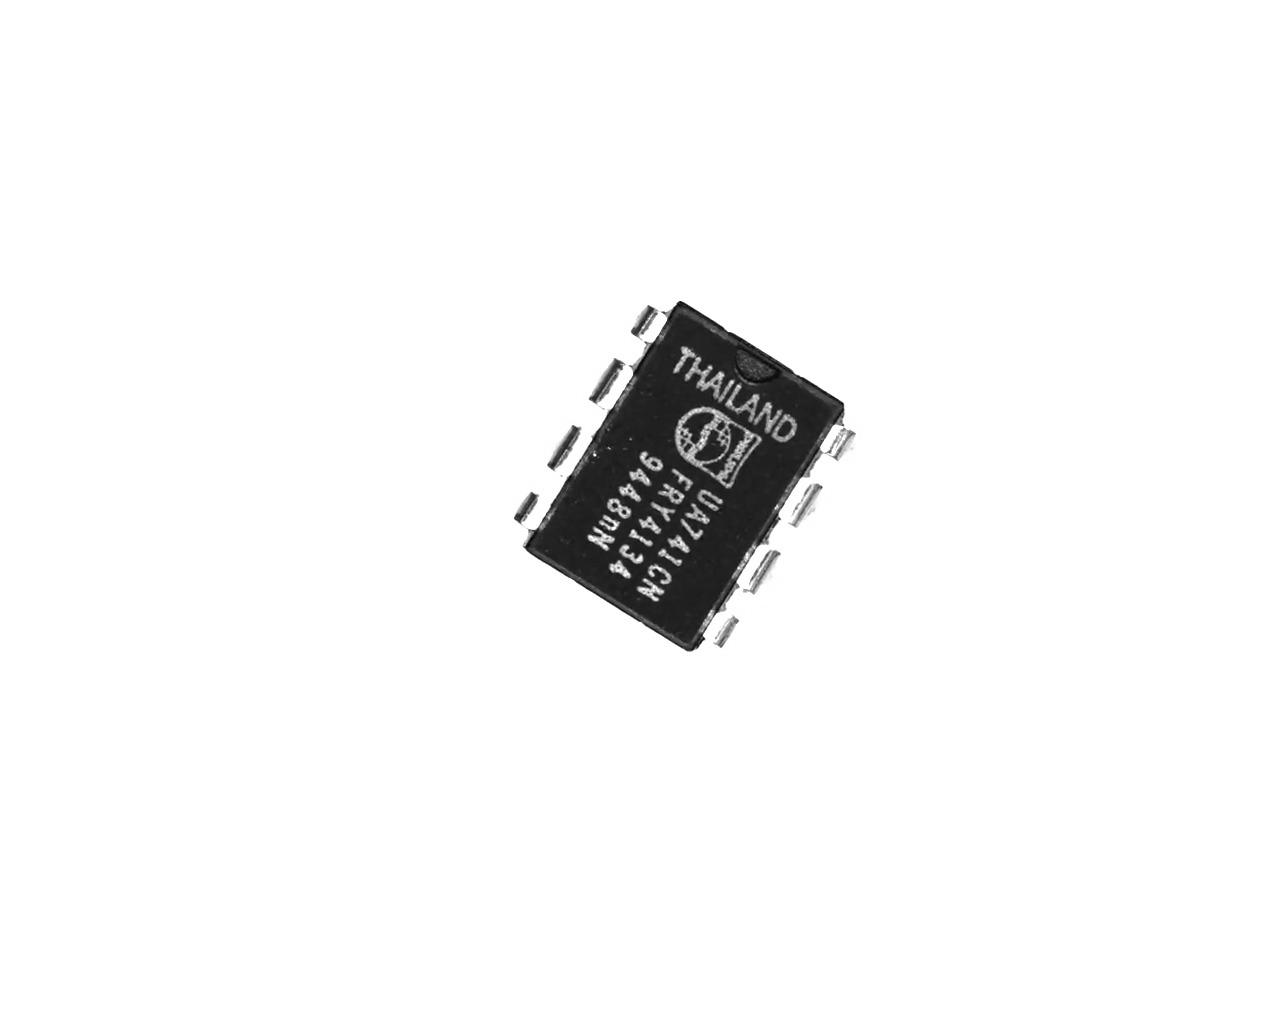Leg: (542, 416, 598, 478), (581, 357, 638, 414), (782, 480, 835, 534), (625, 293, 673, 347), (741, 541, 785, 600), (824, 413, 864, 471), (699, 603, 745, 653), (509, 487, 548, 537)
